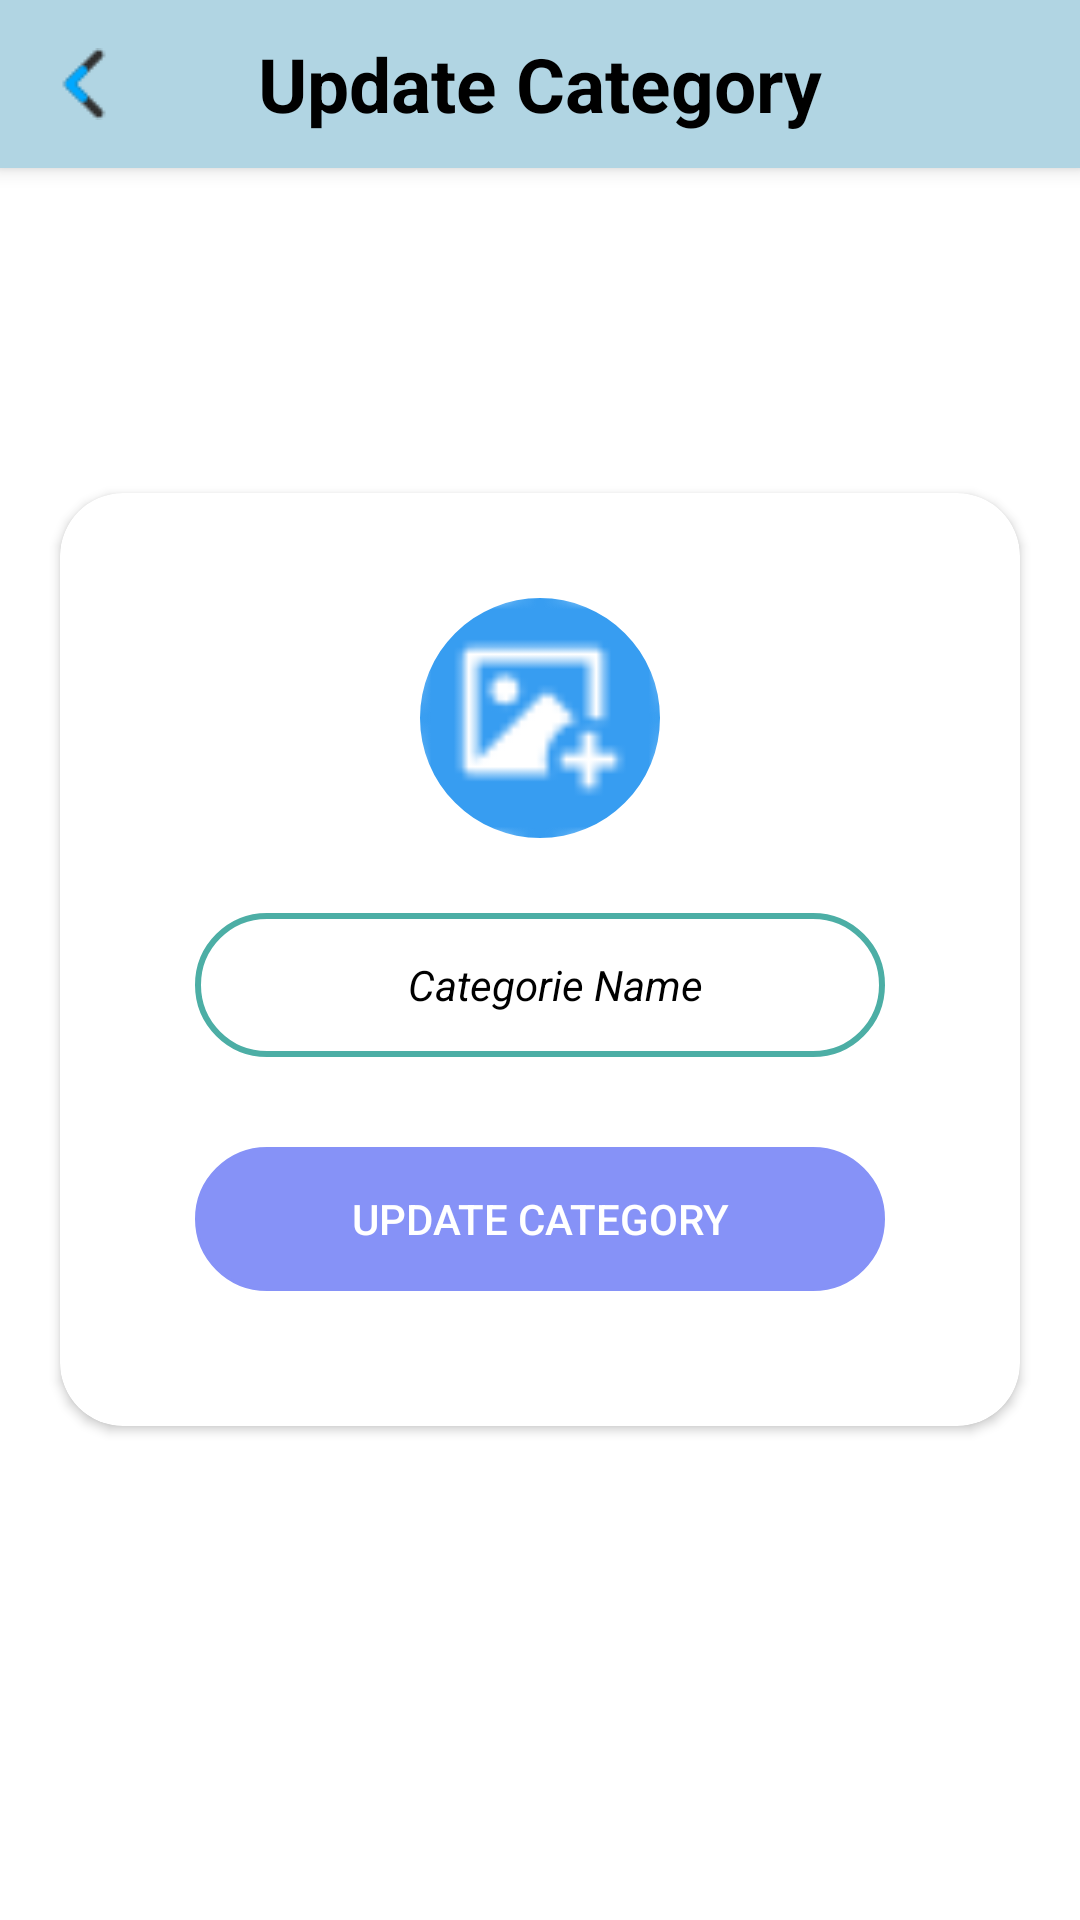

Screen size 1080w x 1920h. Icon name, then its center in pixels as [x,y]:
Back: [84,83]
Categories Image: [540,718]
